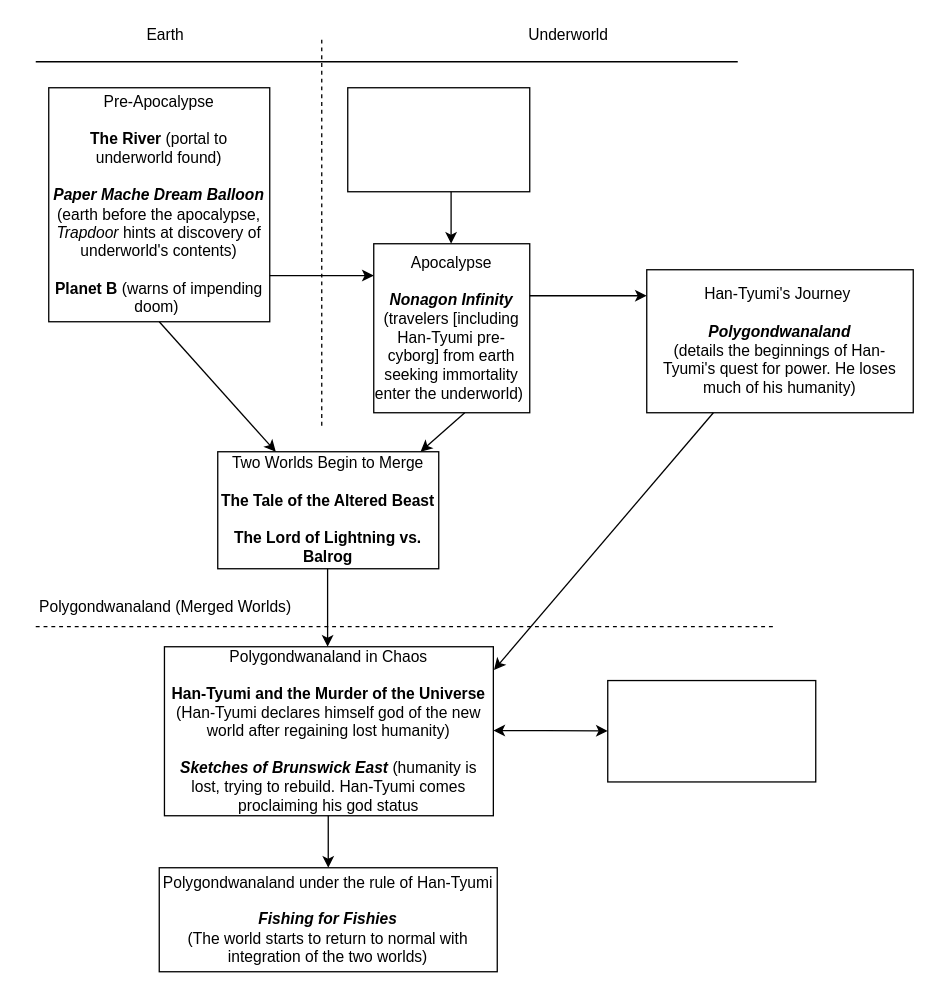
Image size: 936x994. Some labels were removed from this diagram. Here are the shapes that lost their labels. From the top down, the box of each, then its label:
(346, 86, 530, 192): Pre-Apocalypse I'm In Your Mind Fuzz (underworld before the apocalypse)
(606, 679, 816, 782): Flying Microtonal Banana Gumboot Soup (side stories on the state of the world)
